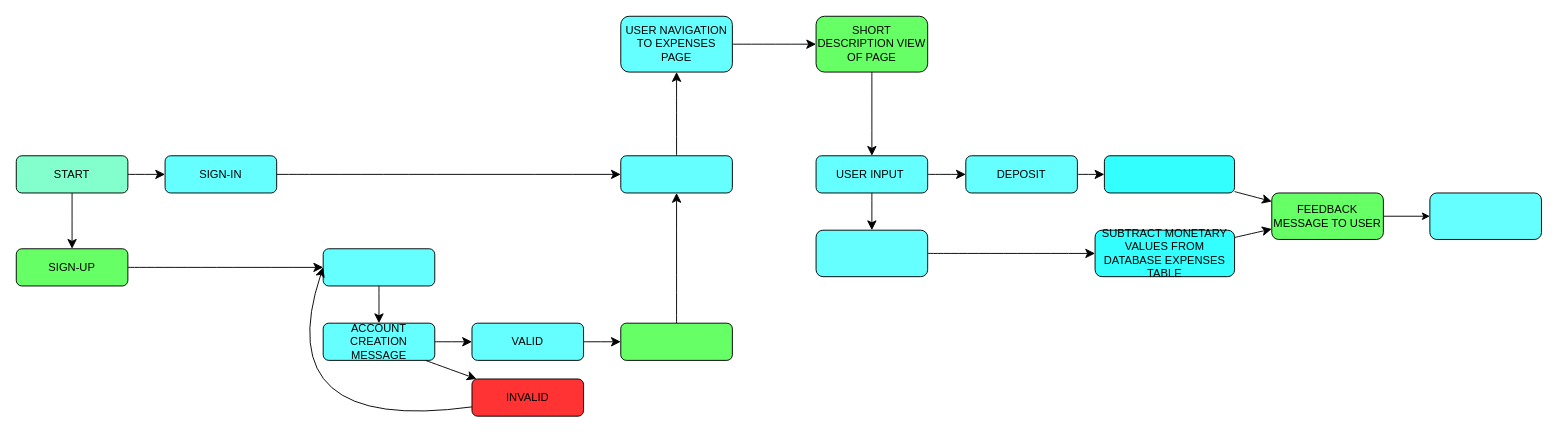
Image size: 1558x432. Some labels were removed from this diagram. Here are the shapes that lost their labels. From the top down, the centre of each, then its label:
the point at 676,174: WELCOME PAGE/HOME PAGE
the point at 1169,174: ADD MONETARY VALUESTO DATABASE EXPENSES TABLE
the point at 1485,215: STOP
the point at 378,267: EMAIL/PASSWORD
the point at 871,253: WITHDRAWAL
the point at 676,341: ADD TO DATABASE USERS TABLE
